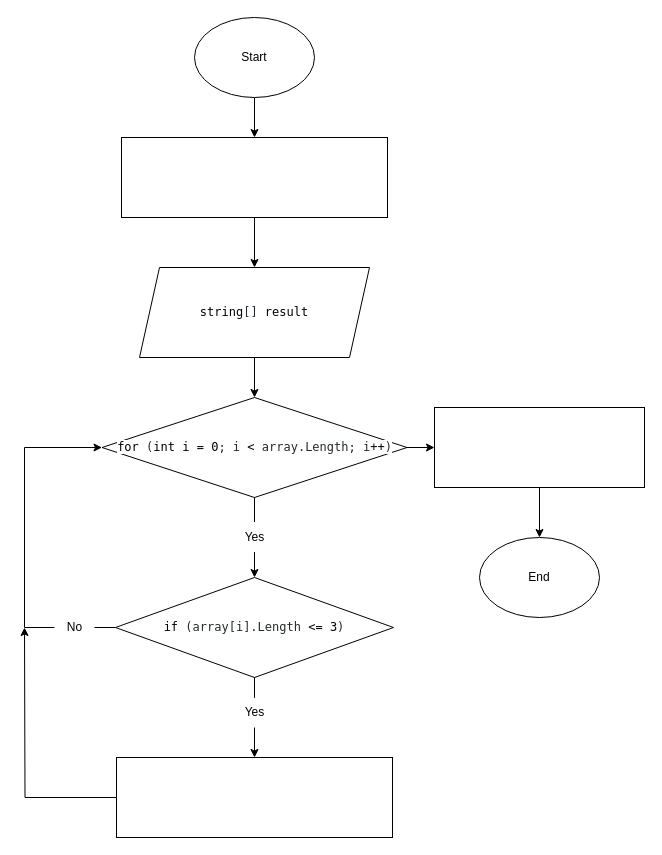
The diagram is 662 pixels wide and 855 high, and some of its shapes have lost their labels. Here are the shapes that lost their labels. From the top down, the box of each, then its label:
(120, 136, 388, 218): void FindingThreeCharacters ( string [] array )
(434, 406, 644, 488): FindingThreeCharacters(array)
(116, 756, 392, 838): result [ i ] = array [ i ]; Console . Write ( $" '{ result [ i ]}' " );
